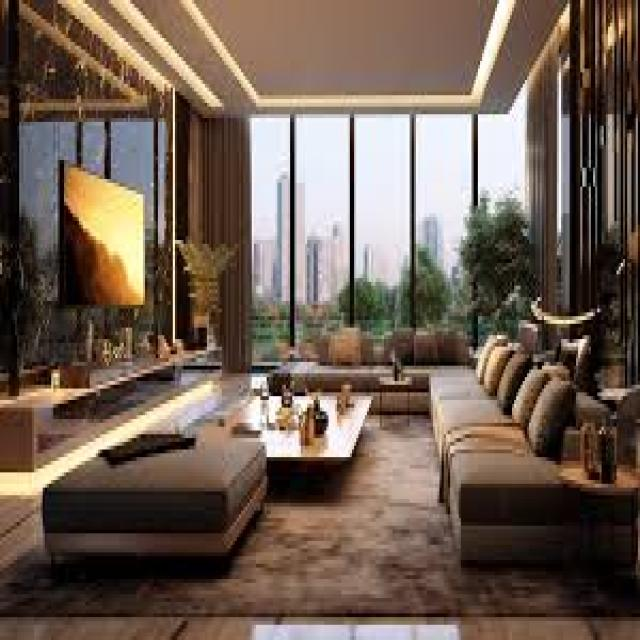Sofa: (419, 328, 628, 573)
Table: (228, 368, 376, 487)
tv: (55, 154, 150, 316)
window: (207, 107, 532, 330)
